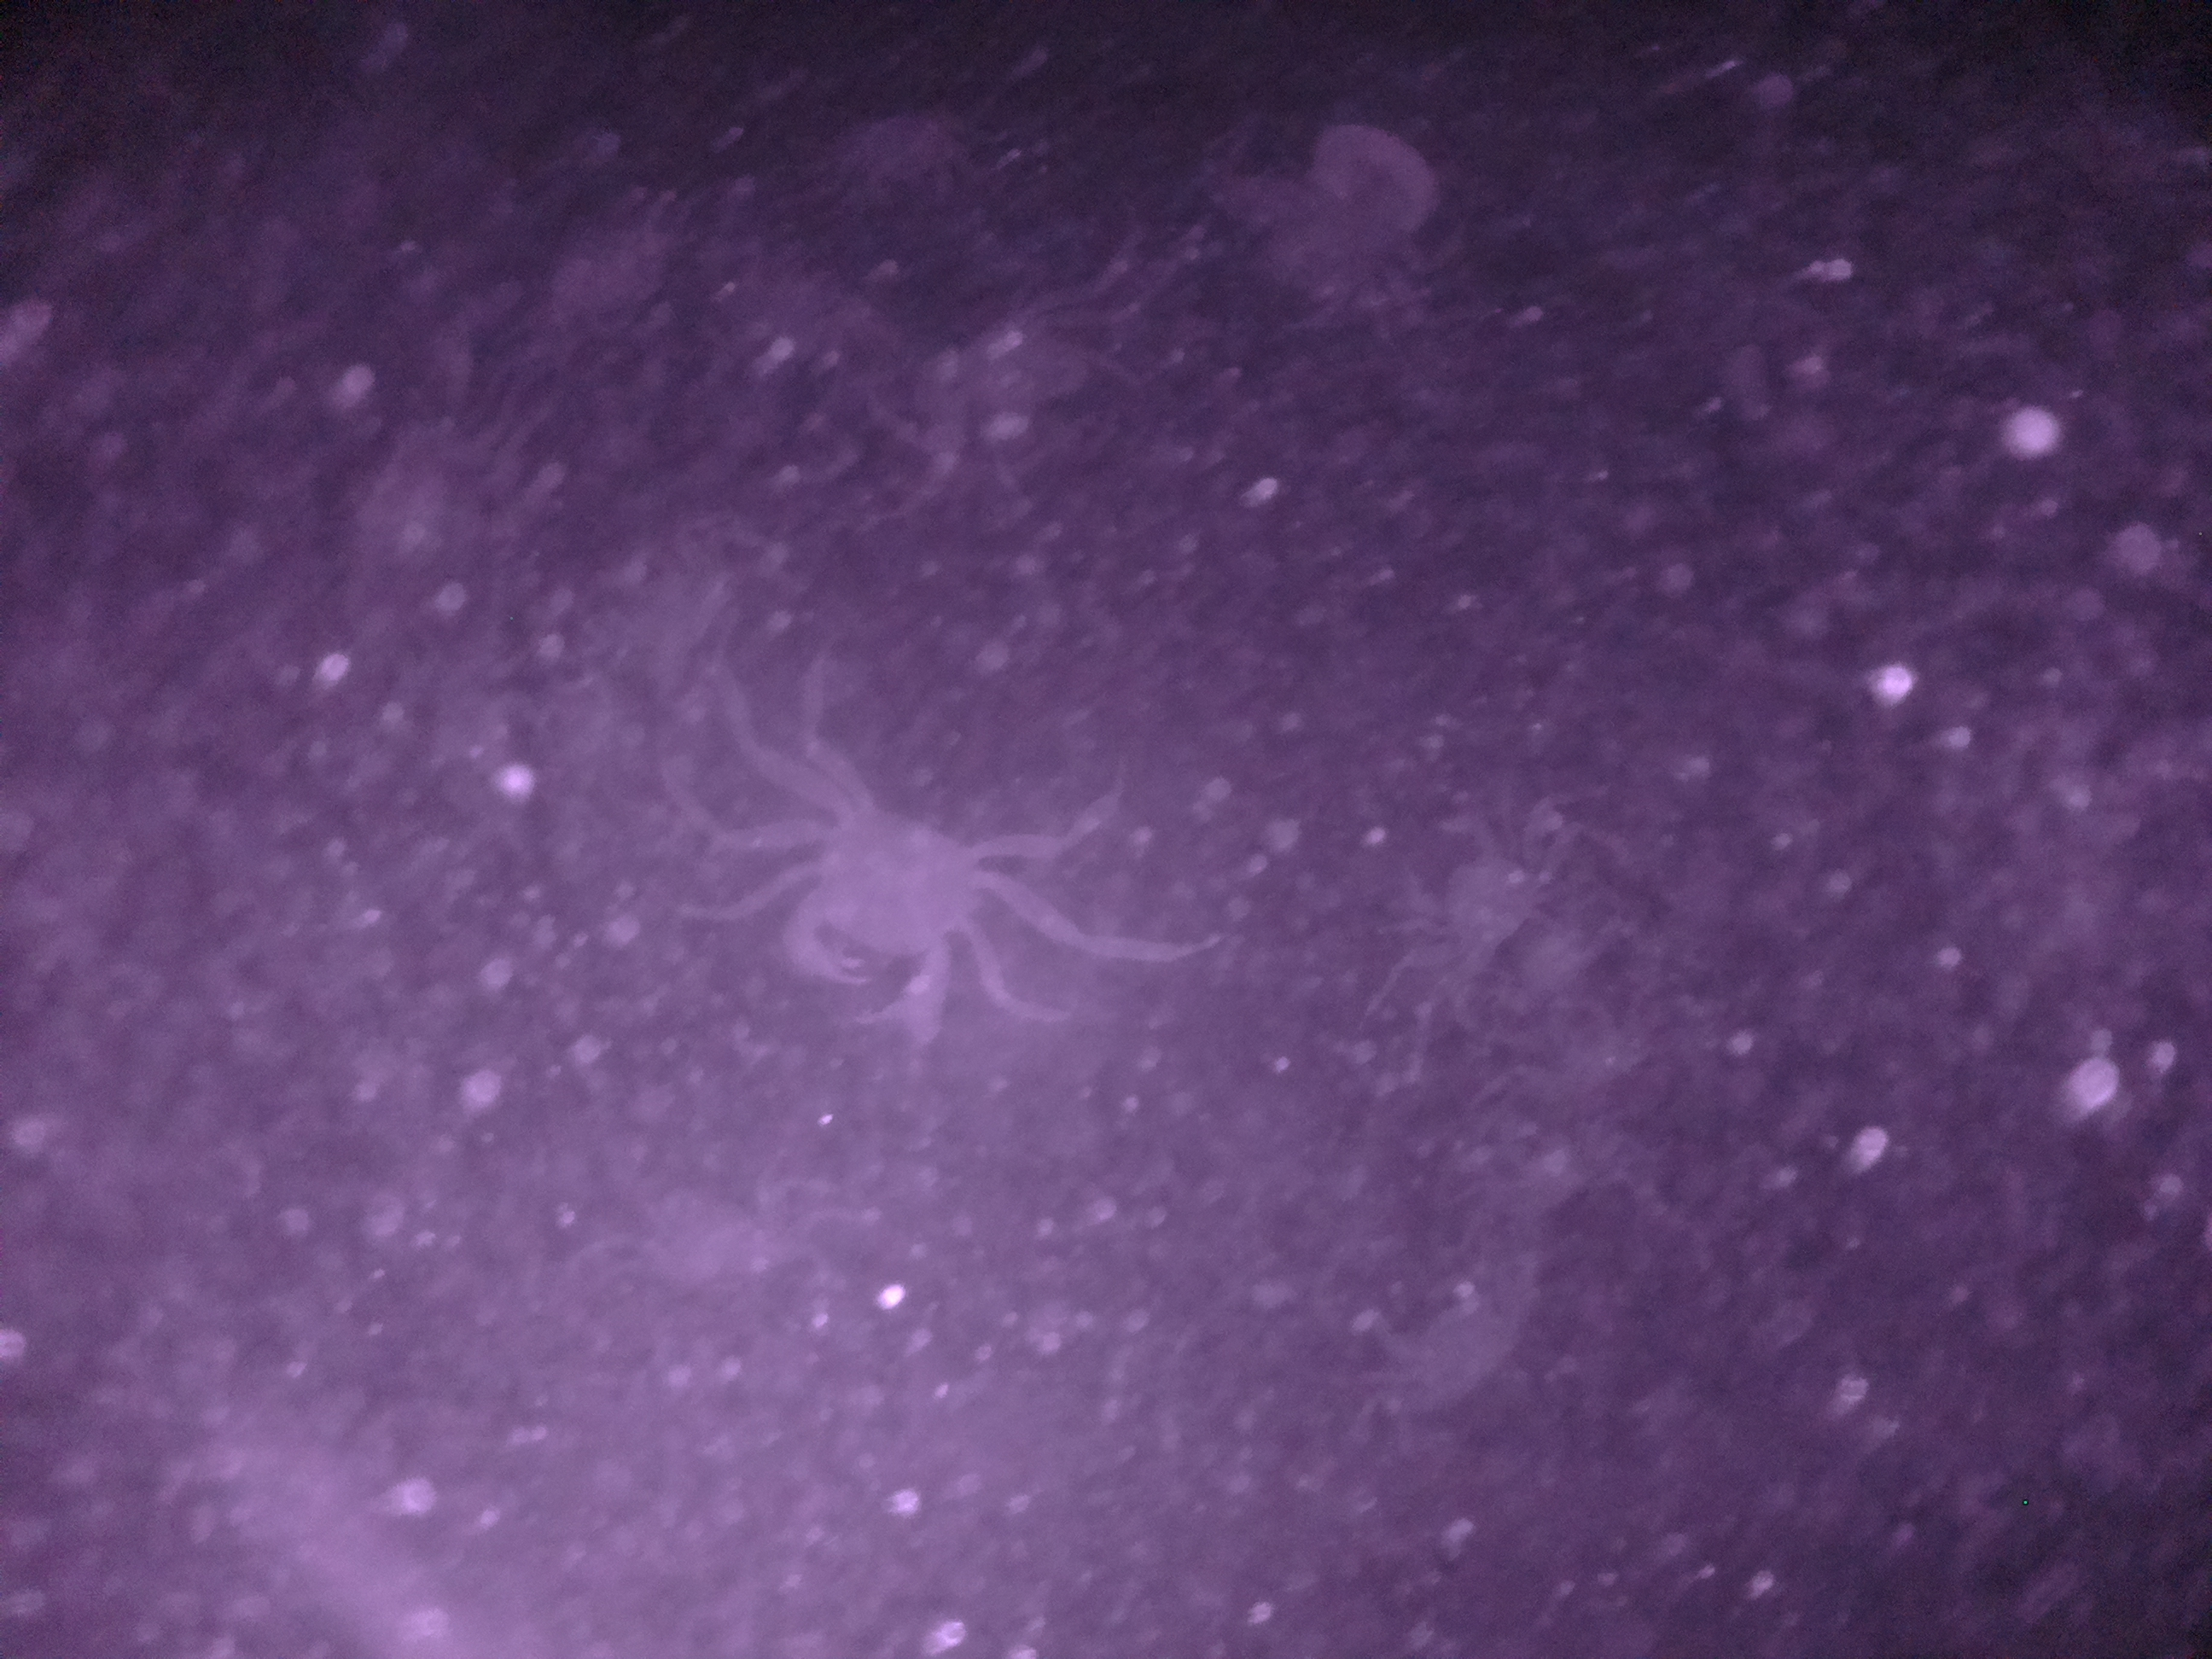Crab: (737, 775, 986, 1056)
